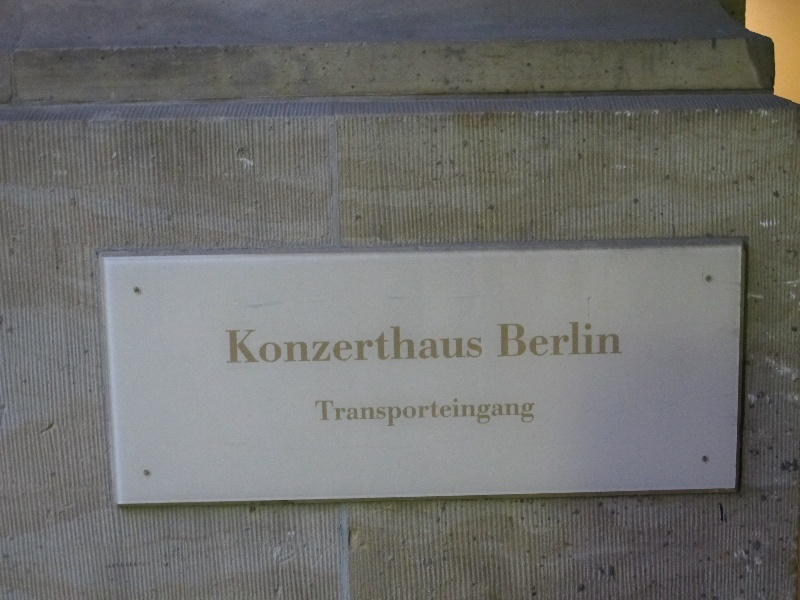text: (225, 324, 240, 365), (241, 324, 256, 365), (257, 324, 272, 365), (273, 324, 288, 365), (289, 324, 304, 365), (305, 324, 320, 365), (321, 324, 336, 365), (337, 324, 352, 365), (353, 324, 368, 365), (369, 324, 384, 365), (385, 324, 400, 365), (401, 324, 416, 365), (417, 324, 432, 365), (433, 324, 448, 365), (449, 324, 464, 365), (465, 324, 480, 365), (497, 321, 512, 358), (513, 321, 528, 358), (529, 321, 544, 358), (545, 321, 560, 358), (561, 321, 576, 358), (577, 321, 592, 358), (593, 321, 608, 358), (609, 321, 622, 358), (321, 399, 336, 430), (337, 399, 352, 430), (353, 399, 368, 430), (369, 399, 384, 430), (385, 399, 400, 430), (401, 399, 416, 430), (417, 399, 432, 430), (433, 399, 448, 430), (449, 399, 464, 430), (465, 399, 480, 430), (481, 399, 496, 430), (497, 399, 512, 430), (513, 399, 528, 430), (529, 399, 536, 430), (315, 399, 320, 430), (481, 324, 483, 365)
